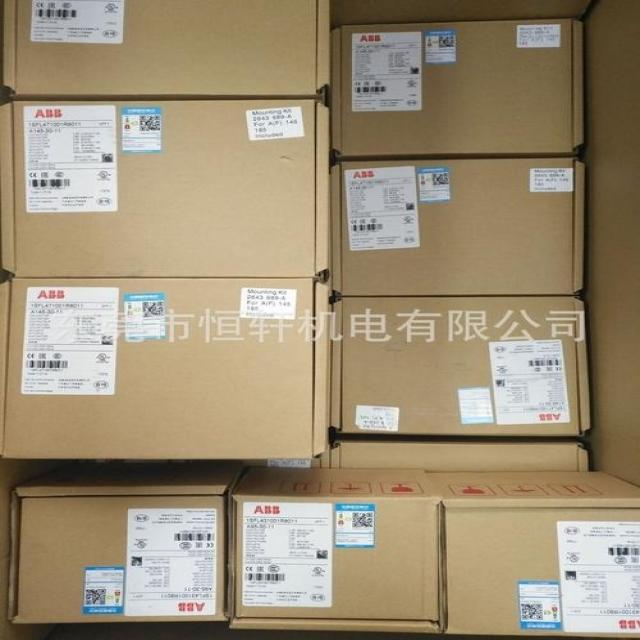box: (0, 98, 330, 282), (1, 278, 329, 458), (8, 462, 242, 625), (328, 295, 590, 440), (225, 466, 445, 632), (329, 17, 584, 159), (330, 157, 586, 296), (428, 471, 640, 638), (3, 0, 329, 102), (330, 442, 588, 472)
